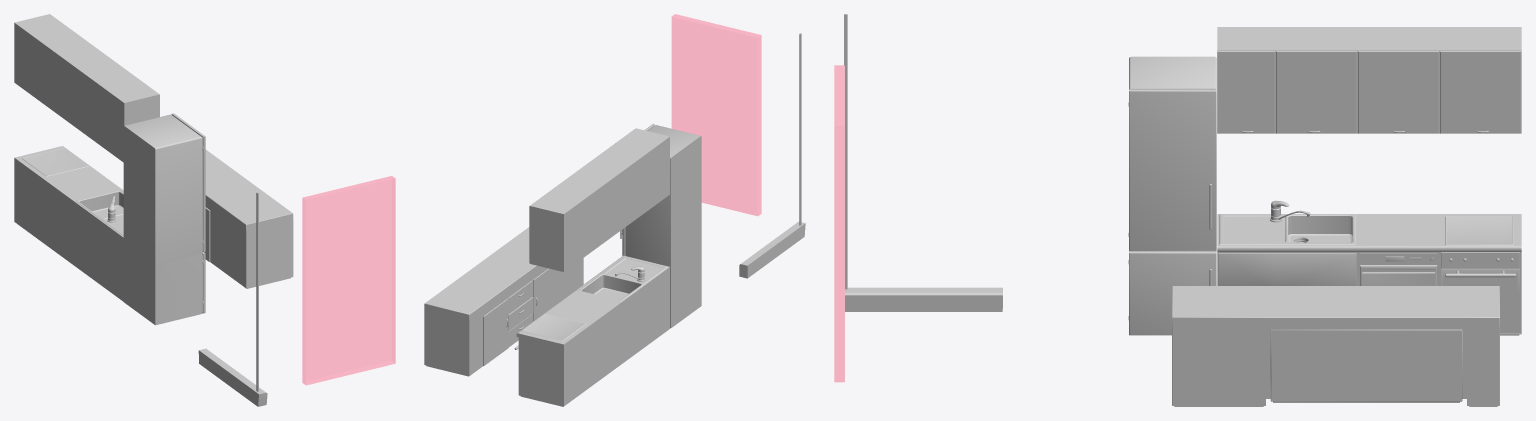
The model's file is Kitchen.fbx.
3 views of the same model, side by side, from view 1: azimuth 30°, elevation 25°; view 2: azimuth 150°, elevation 25°; view 3: azimuth 270°, elevation 25° (orthographic). The views are drawn at different scales.
Visible parts, largest first — view 1: BlackBoard, Kühlschrank, RegaleOben, InselUnten_1, Island_fbx, KabelBox, Water_Tap, Herd; view 2: BlackBoard, RegaleOben, InselUnten_1, Island_fbx, Kühlschrank, Water_Tap, KabelBox, Door2, Herd, Door1, Door4, Door3; view 3: Island_fbx, RegaleOben, Kühlschrank, InselUnten_1, Herd, KabelBox, Water_Tap, BlackBoard.
Part boxes in pixels (x1,y1,x2,y2): BlackBoard: [302, 176, 395, 385]; Kühlschrank: [123, 113, 205, 325]; RegaleOben: [14, 14, 159, 162]; InselUnten_1: [14, 146, 123, 301]; Island_fbx: [205, 149, 293, 288]; KabelBox: [198, 192, 267, 406]; Water_Tap: [75, 190, 123, 236]; Herd: [22, 148, 88, 176]; BlackBoard: [671, 14, 761, 216]; RegaleOben: [529, 128, 669, 271]; InselUnten_1: [516, 255, 669, 406]; Island_fbx: [424, 227, 583, 376]; Kühlschrank: [620, 123, 701, 328]; Water_Tap: [577, 256, 667, 301]; KabelBox: [739, 33, 805, 278]; Door2: [483, 298, 508, 365]; Herd: [514, 314, 585, 349]; Door1: [533, 268, 550, 320]; Door4: [508, 297, 533, 330]; Door3: [508, 280, 533, 313]; Island_fbx: [1172, 286, 1499, 406]; RegaleOben: [1217, 27, 1521, 133]; Kühlschrank: [1128, 56, 1216, 335]; InselUnten_1: [1217, 214, 1521, 335]; Herd: [1439, 216, 1521, 334]; KabelBox: [844, 14, 1002, 311]; Water_Tap: [1219, 208, 1355, 244]; BlackBoard: [834, 65, 844, 382].
Bounding box in the file's own units: 264 × 344 × 731.
